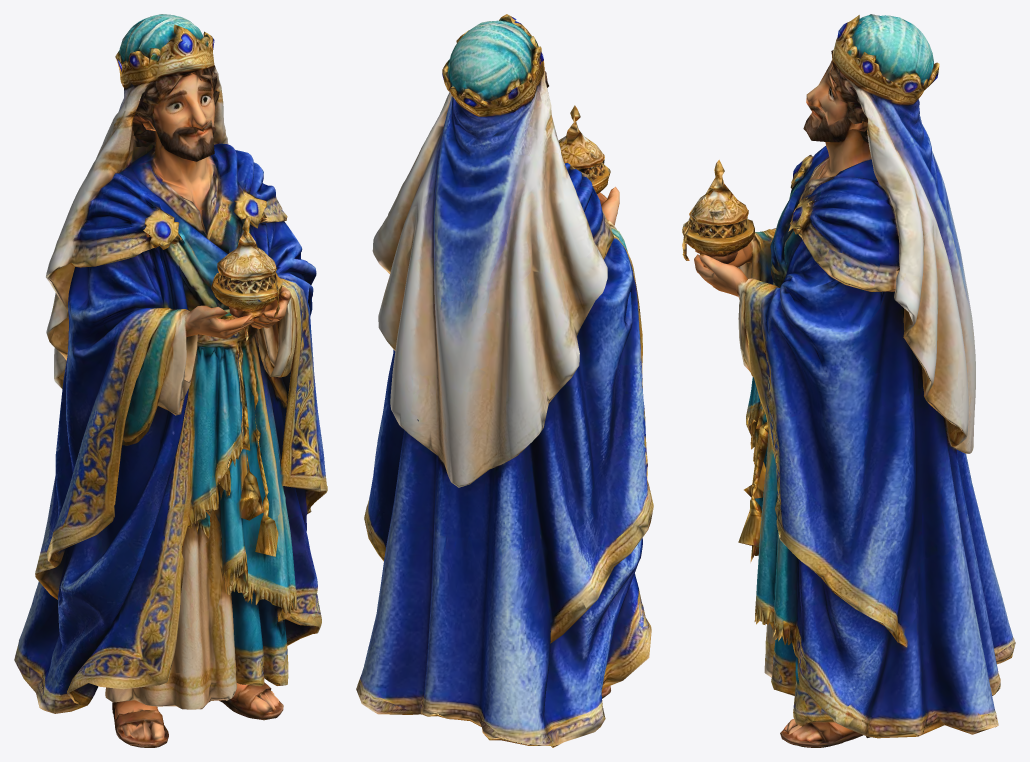
Rendered from melchior.glb.
The picture shows the model from 3 angles, left to right: view 1: azimuth 30°, elevation 25°; view 2: azimuth 150°, elevation 25°; view 3: azimuth 270°, elevation 25°; orthographic projection. The views are drawn at different scales.
Visible parts, largest first — view 1: tripo_node_84a3fdf9-2191-4f1c-a302-a1e94bdbfd35; view 2: tripo_node_84a3fdf9-2191-4f1c-a302-a1e94bdbfd35; view 3: tripo_node_84a3fdf9-2191-4f1c-a302-a1e94bdbfd35.
Boxes of the visible parts, bbox=[...] form: tripo_node_84a3fdf9-2191-4f1c-a302-a1e94bdbfd35: bbox=[14, 14, 327, 747]; tripo_node_84a3fdf9-2191-4f1c-a302-a1e94bdbfd35: bbox=[356, 14, 653, 747]; tripo_node_84a3fdf9-2191-4f1c-a302-a1e94bdbfd35: bbox=[682, 14, 1015, 747].
Size of the model in its own units: 0.402 by 0.9751 by 0.4246.
1 material, 1 textured.
